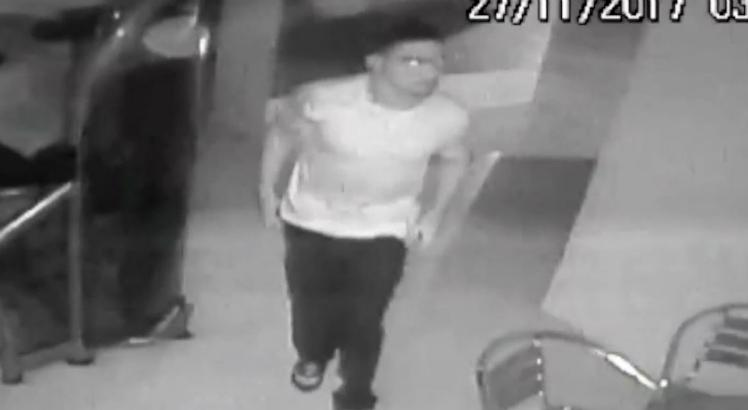Humano: (273, 27, 472, 410)
